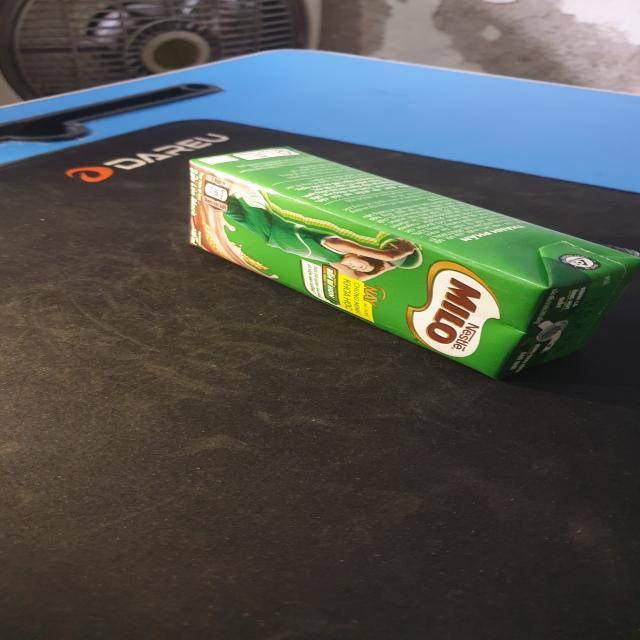Milo: (184, 144, 640, 387)
